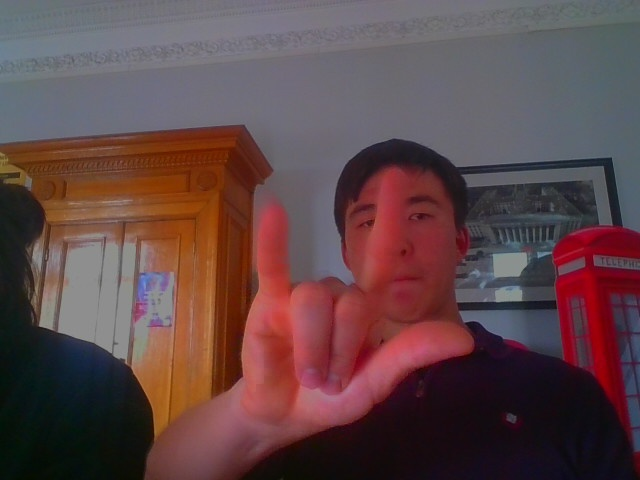Ilovu: (186, 149, 481, 432)
